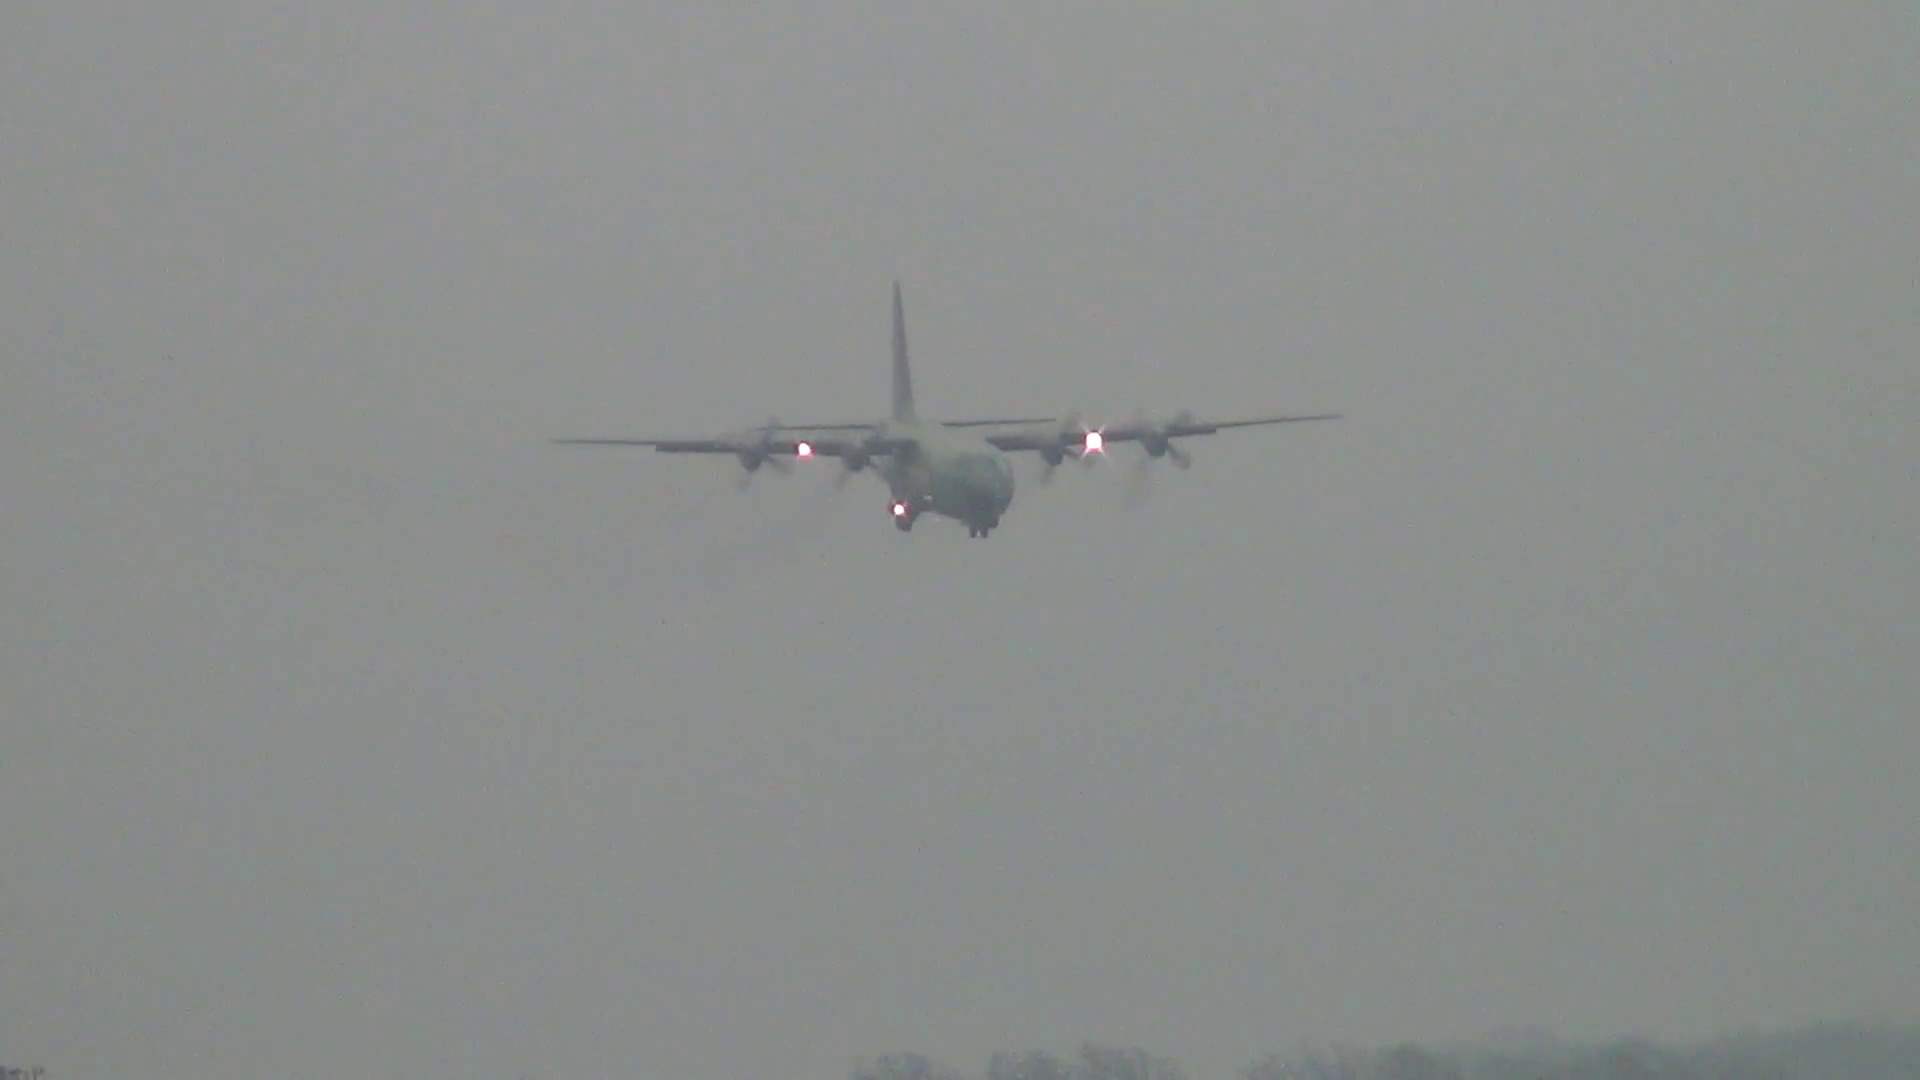Airplane: (541, 280, 1346, 535)
